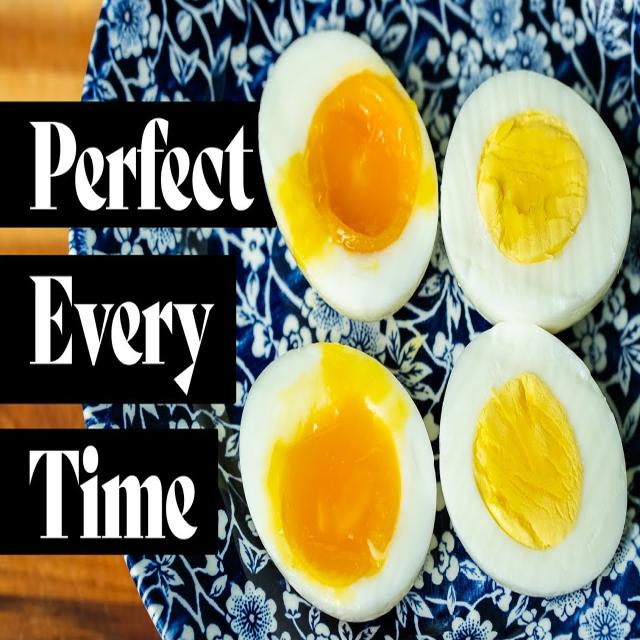boiled egg: (239, 343, 436, 622), (258, 31, 438, 321), (439, 322, 626, 598), (441, 71, 631, 333)
